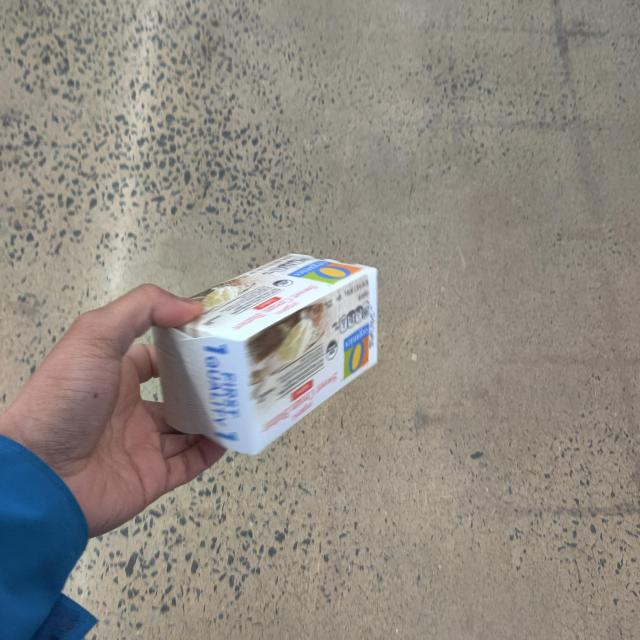Butter: (163, 254, 378, 459)
